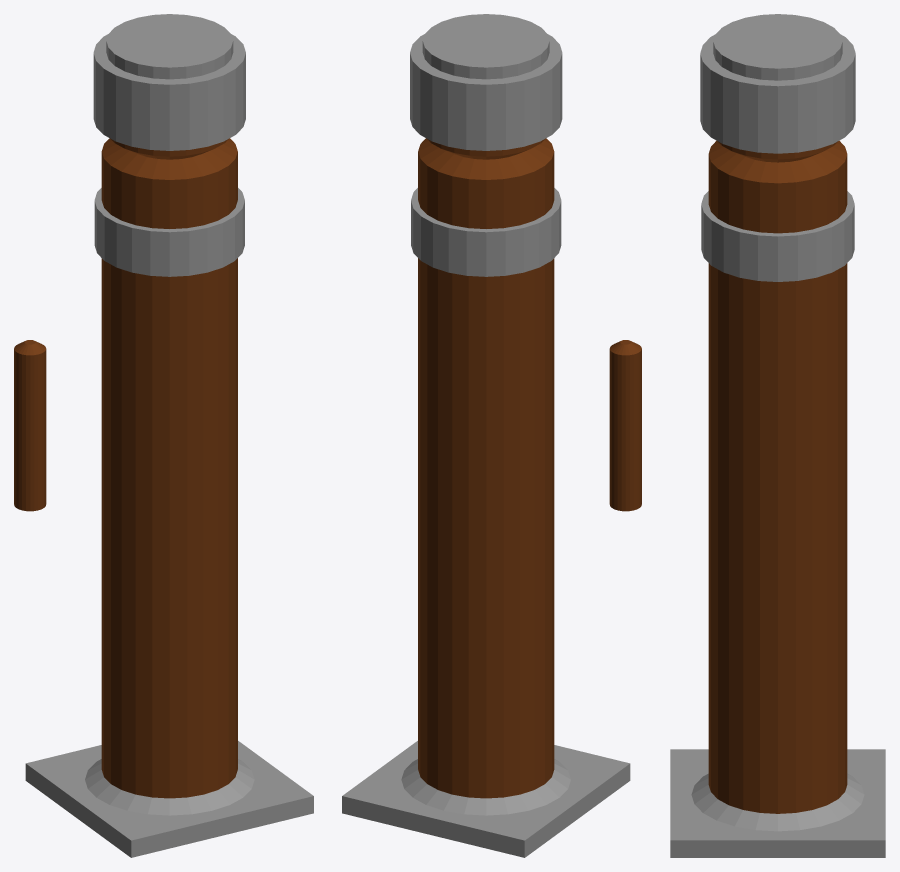
File: SpinningDummy.fbx
3 views of the same model, side by side, from view 1: azimuth 30°, elevation 25°; view 2: azimuth 150°, elevation 25°; view 3: azimuth 270°, elevation 25° (orthographic).
Parts seen in each view (by area): view 1: SpinningDummyTower, SpinningDummyBase, SpinningDummyArm; view 2: SpinningDummyTower, SpinningDummyBase, SpinningDummyArm; view 3: SpinningDummyTower, SpinningDummyBase.
Part boxes in pixels (bbox=[...]): SpinningDummyTower: bbox=[85, 14, 254, 815]; SpinningDummyBase: bbox=[25, 741, 313, 857]; SpinningDummyArm: bbox=[14, 340, 46, 511]; SpinningDummyTower: bbox=[401, 14, 570, 815]; SpinningDummyBase: bbox=[342, 741, 630, 857]; SpinningDummyArm: bbox=[609, 340, 641, 511]; SpinningDummyTower: bbox=[691, 14, 864, 831]; SpinningDummyBase: bbox=[670, 749, 885, 857].
Size of the model in its own units: 192 by 568 by 144.
